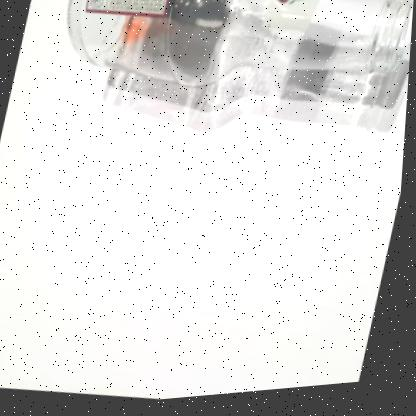Glass: (67, 0, 414, 88)
